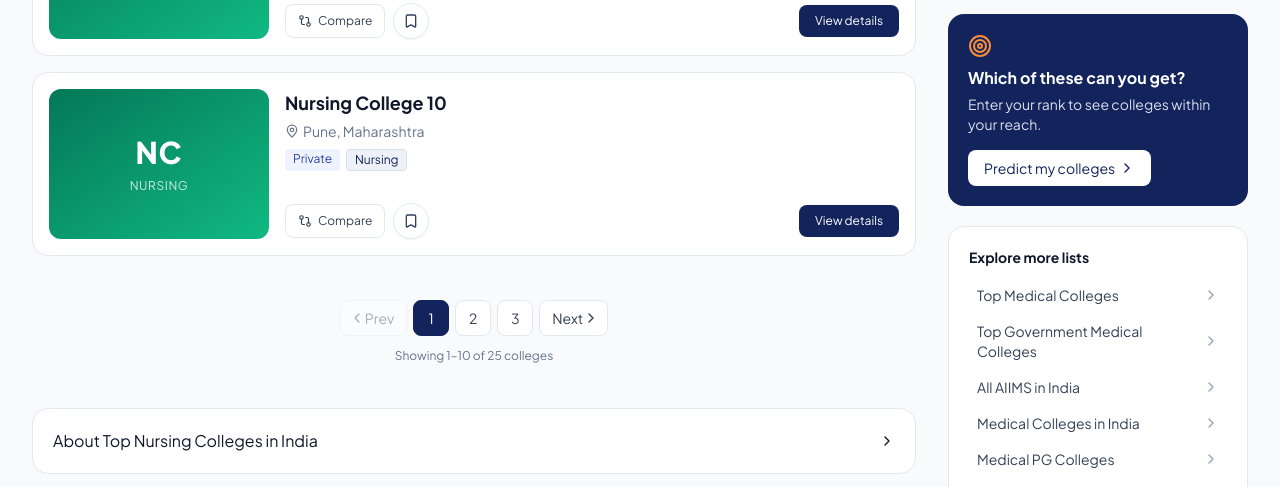
Test: CollegeListPage › shows 10 colleges per page with page numbers
(page scrolled)
Expected: the text "Showing 1–10 of 25 colleges" is shown, [395,348,553,364]
Expected: the button with aria-label "Previous page" is disabled, [340,300,407,336]
Click the button with aria-label "Next page": (574, 318) [539,300,608,336]
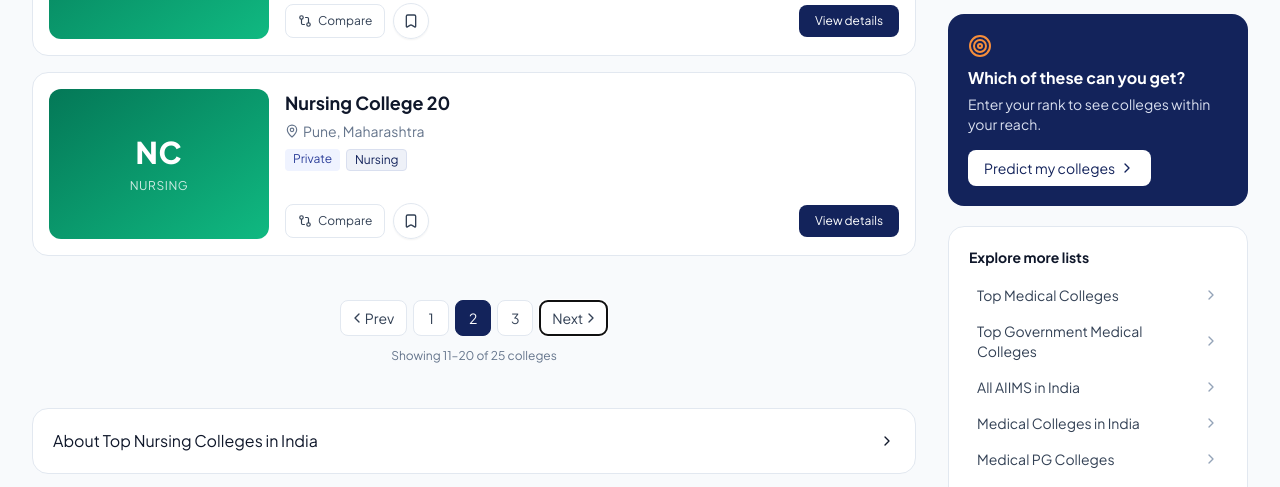
Expected: the button named "Page 2" is marked as current, [455,300,491,336]
Click the button named "Page 3": (515, 318) [497,300,533,336]
(page scrolled)
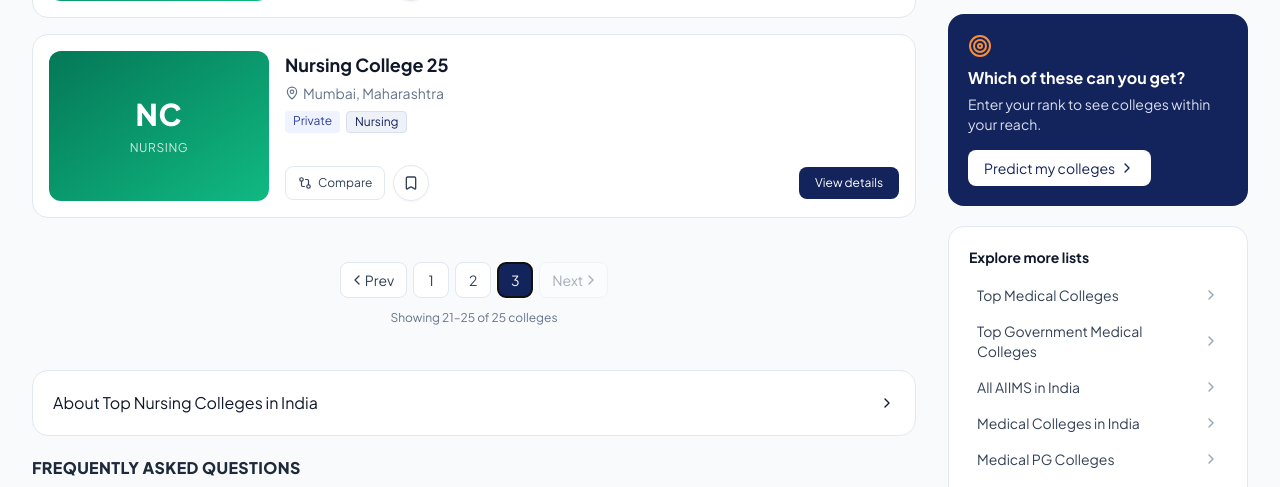
Expected: the text "Showing 21–25 of 25 colleges" is shown, [390,310,558,326]
